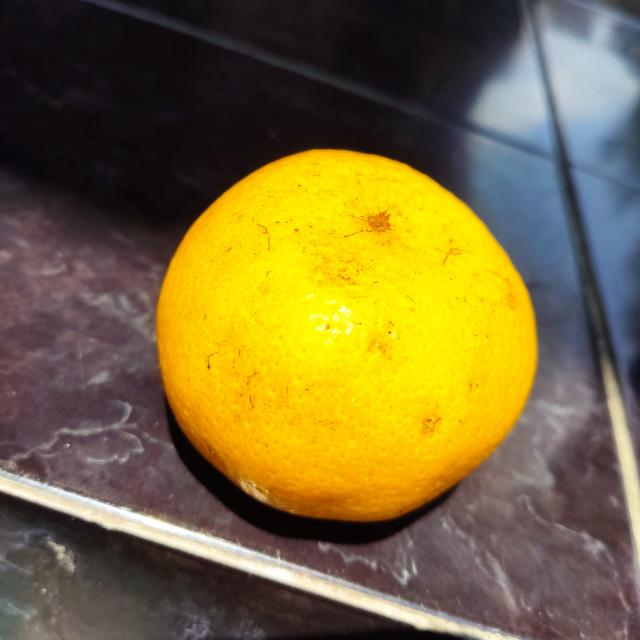orange: (152, 145, 536, 522)
